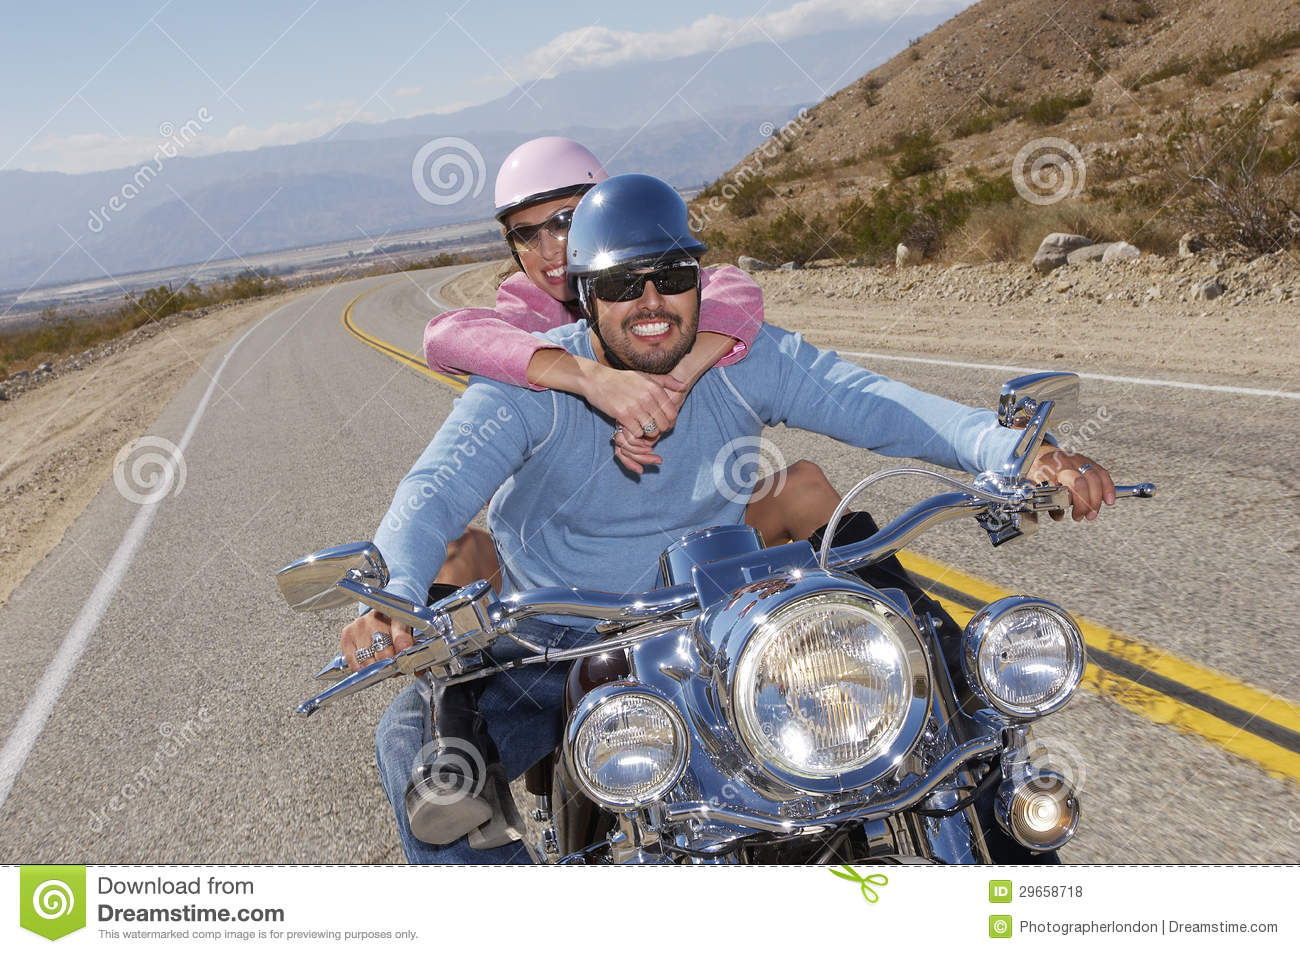helmet: (555, 168, 717, 269), (492, 142, 605, 203)
